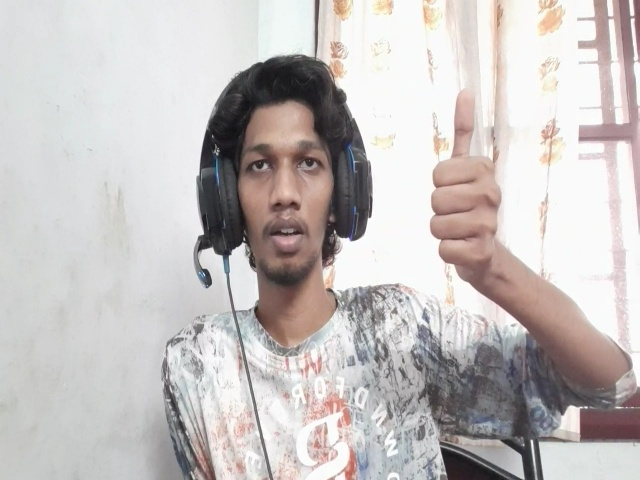ThumbsUp: (431, 88, 502, 262)
